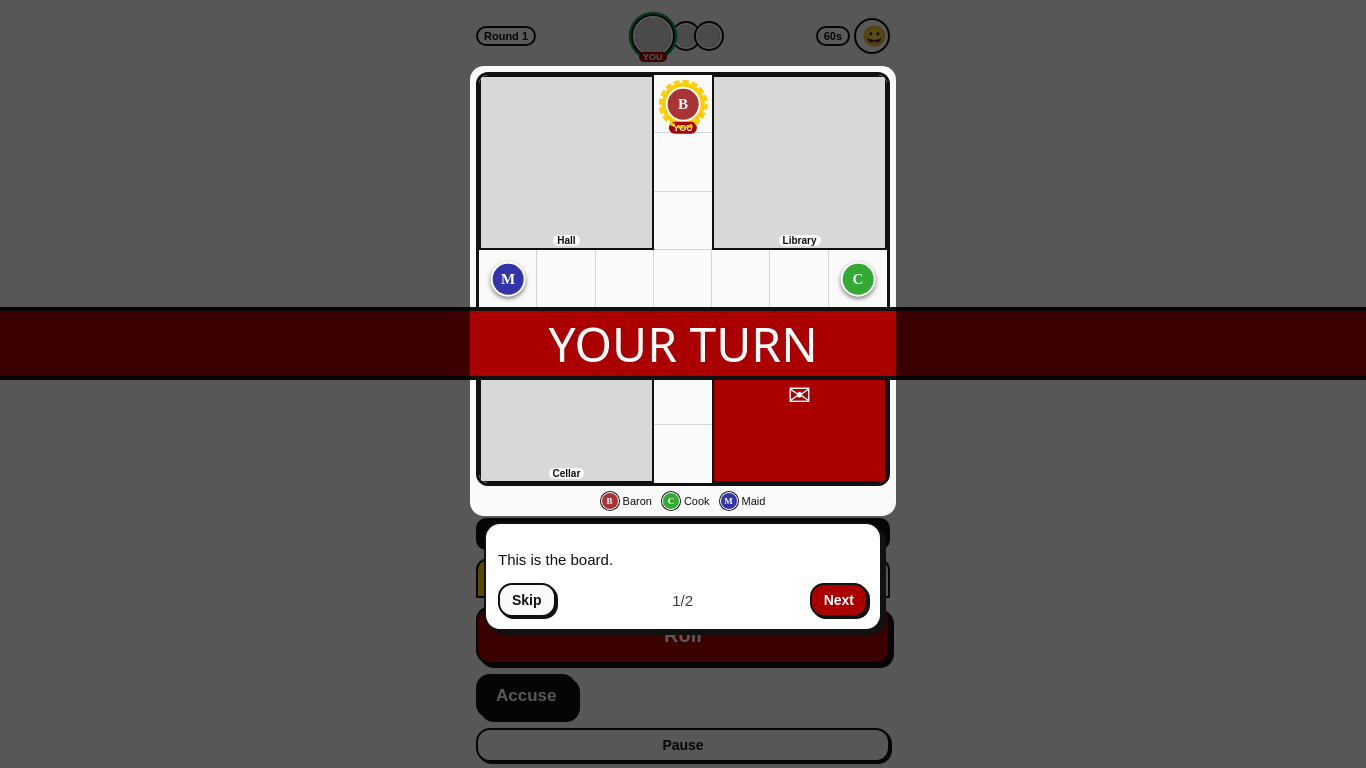
Test: first-game tutorial › walks through the theme coach marks with Next
Check: the dialog named "Tutorial" shows "This is the board.", box [498, 551, 613, 568]
Click the button "Next" at (839, 600), box [810, 583, 868, 617]
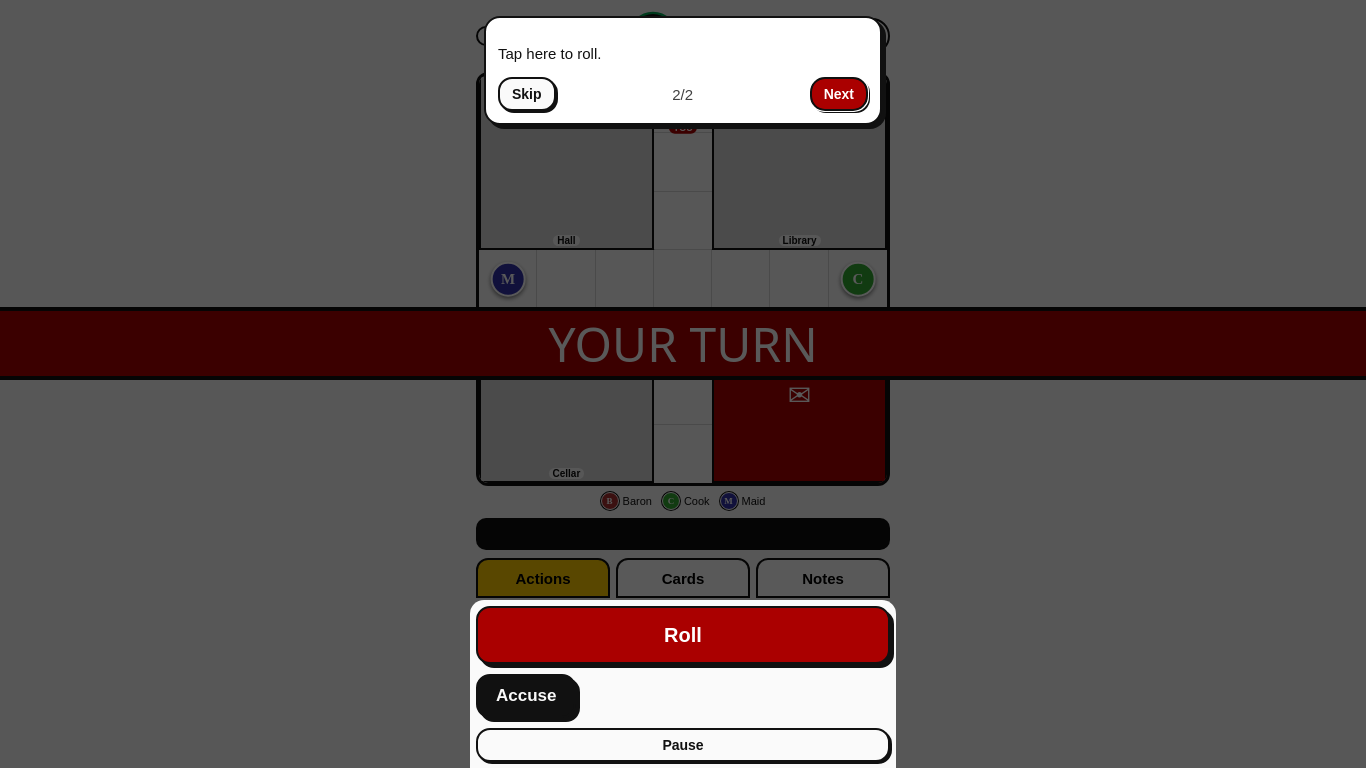
Check: the dialog named "Tutorial" shows "Tap here to roll.", box [498, 45, 601, 62]
Click the button "Next" at (839, 94), box [810, 77, 868, 111]
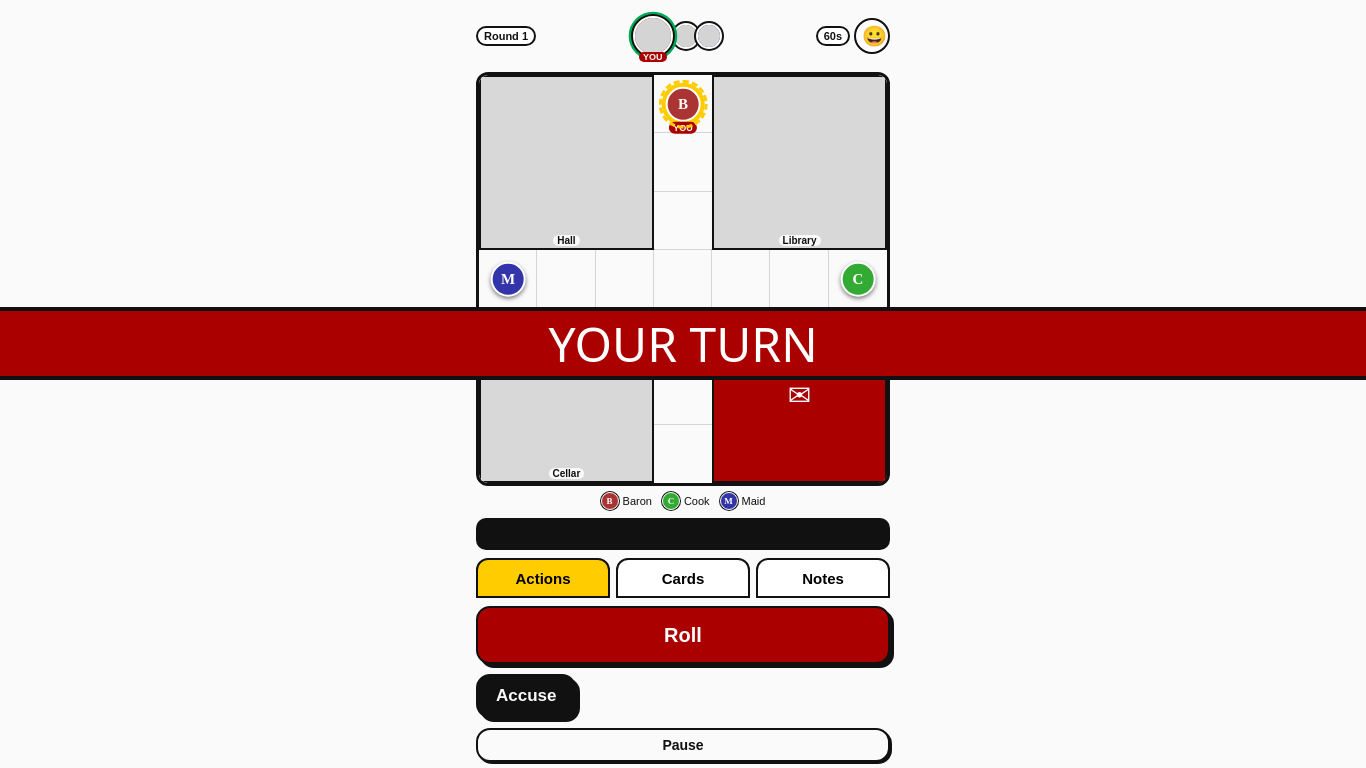
Check: the dialog "Tutorial" is gone
